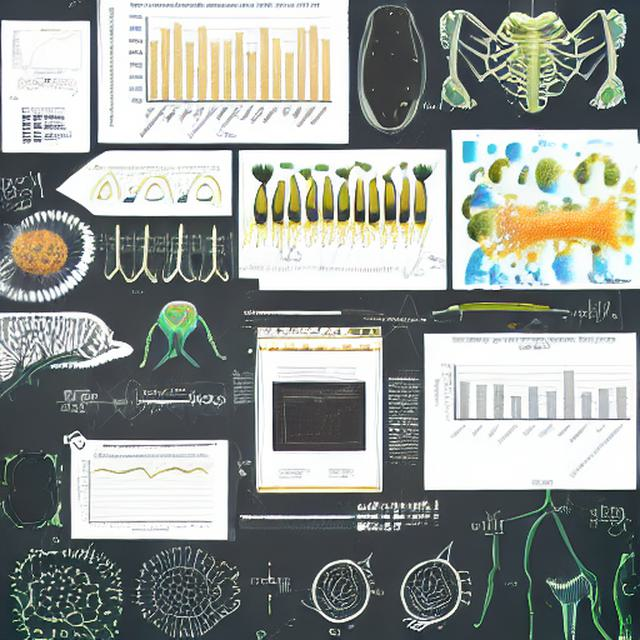Graph: (103, 0, 339, 142), (429, 335, 635, 484), (73, 451, 216, 537), (274, 395, 366, 451), (9, 22, 89, 77)
